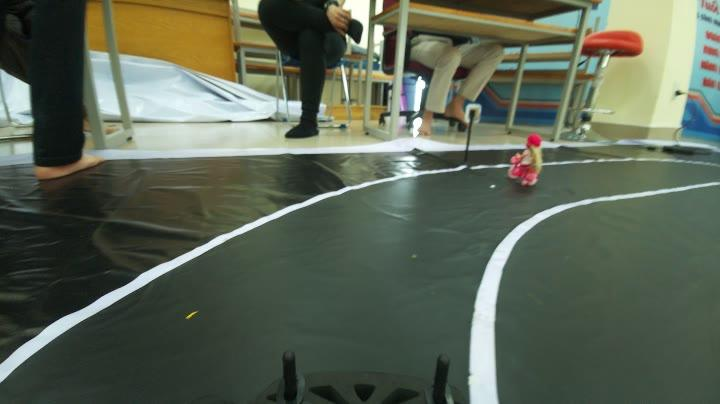pedestrian: (512, 128, 546, 192)
